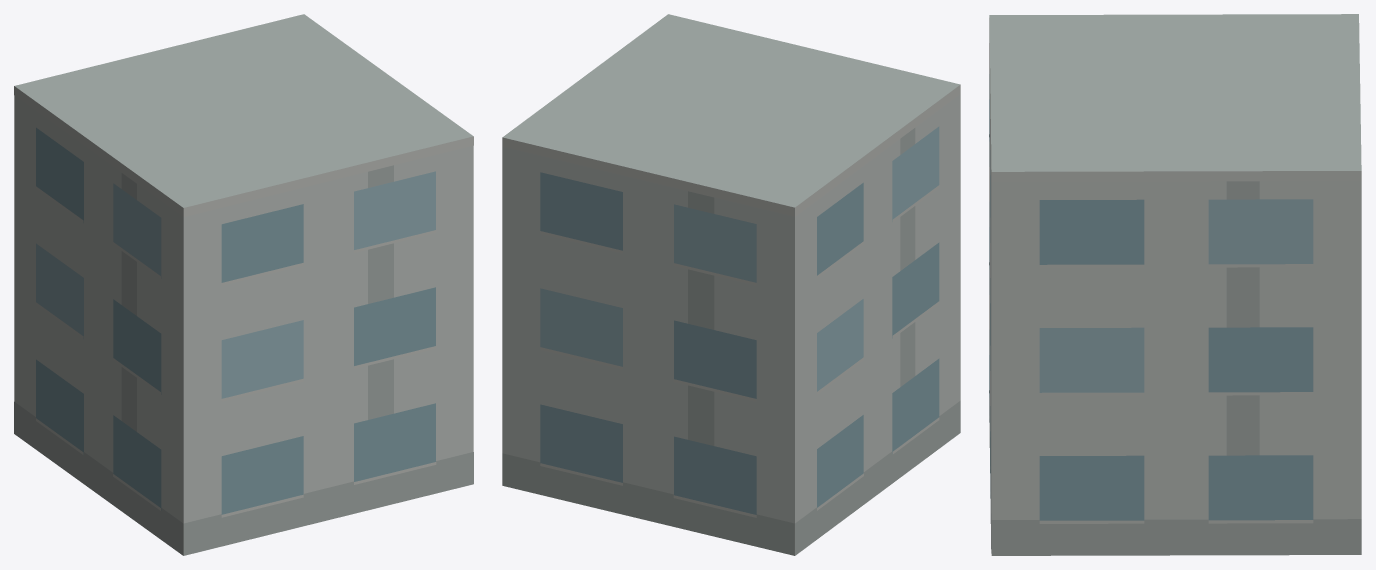
File: residential-cdda2612-6d70-498a-b033-02529649d107.glb
3 renders of one model, left to right at view 1: azimuth 30°, elevation 25°; view 2: azimuth 150°, elevation 25°; view 3: azimuth 270°, elevation 25°, orthographic. The views are drawn at different scales.
Parts seen in each view (by area): view 1: residential-cdda2612-6d70-498a-b033-02529649d107.tmp; view 2: residential-cdda2612-6d70-498a-b033-02529649d107.tmp; view 3: residential-cdda2612-6d70-498a-b033-02529649d107.tmp.
Part boxes in pixels (x1,y1,x2,y2): residential-cdda2612-6d70-498a-b033-02529649d107.tmp: [14, 14, 473, 555]; residential-cdda2612-6d70-498a-b033-02529649d107.tmp: [502, 14, 960, 555]; residential-cdda2612-6d70-498a-b033-02529649d107.tmp: [989, 14, 1361, 555].
Size of the model in its own units: 8.08 by 9.15 by 8.05.
